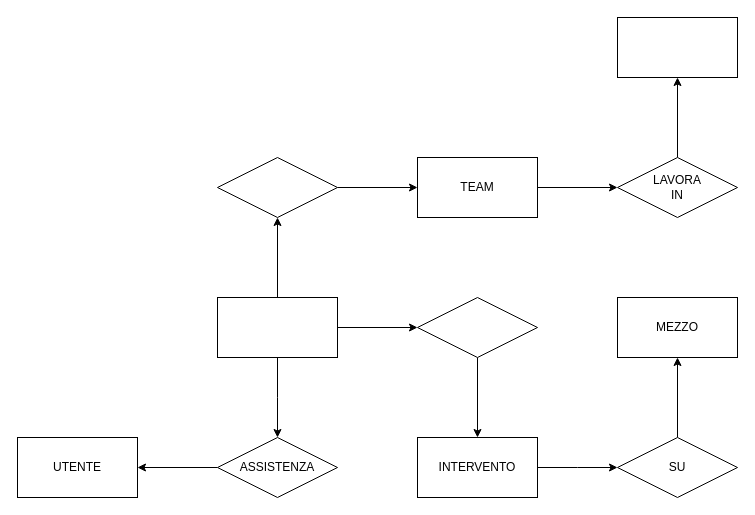
This 755x515 diagram has some shape labels left out. Here are the shapes that lost their labels. From the top down, the box of each, then its label:
(616, 16, 738, 78): SEDE
(216, 156, 338, 218): PARTE DI
(216, 296, 338, 358): OPERATORE
(416, 296, 538, 358): GESTIONE
